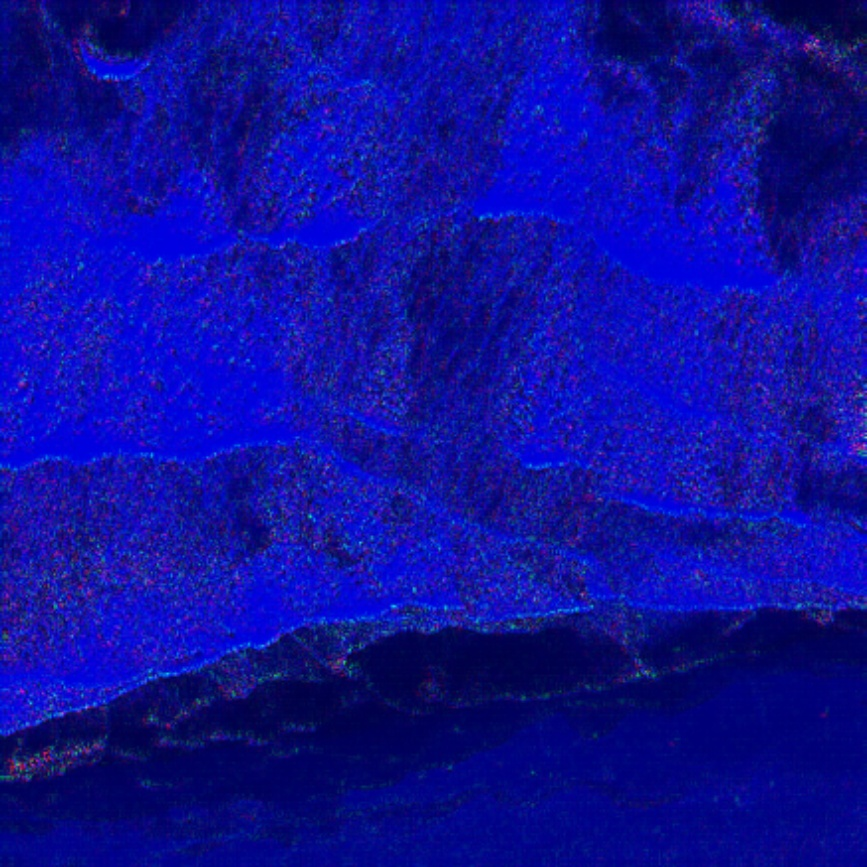rip_current: (313, 82, 655, 567)
